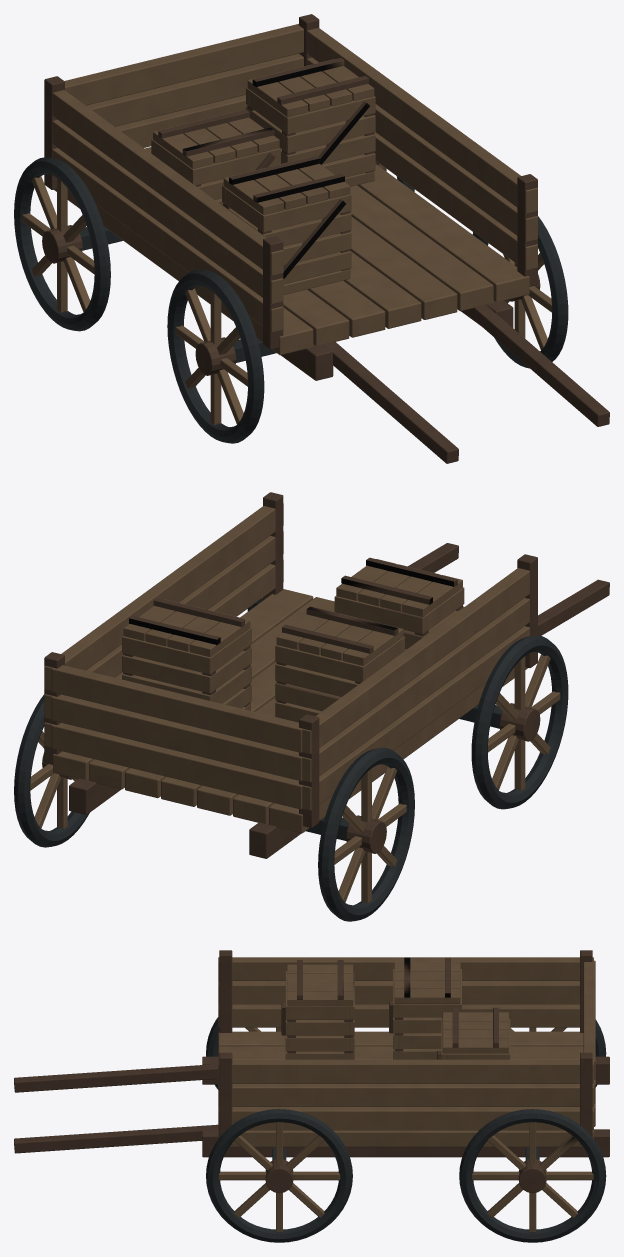
Rendered from Merchant_Wagon.fbx.
3 views of the same model, one above another, from view 1: azimuth 30°, elevation 25°; view 2: azimuth 150°, elevation 25°; view 3: azimuth 270°, elevation 25° (orthographic). The views are drawn at different scales.
Visible parts, largest first — view 1: Merchant_Wagon.001; view 2: Merchant_Wagon.001; view 3: Merchant_Wagon.001.
Part boxes in pixels (box(x1,y1,x2,y2)): Merchant_Wagon.001: box(14, 14, 609, 463); Merchant_Wagon.001: box(14, 492, 609, 921); Merchant_Wagon.001: box(14, 950, 609, 1242).
Bounding box in the file's own units: 2.92 × 1.86 × 5.55.
